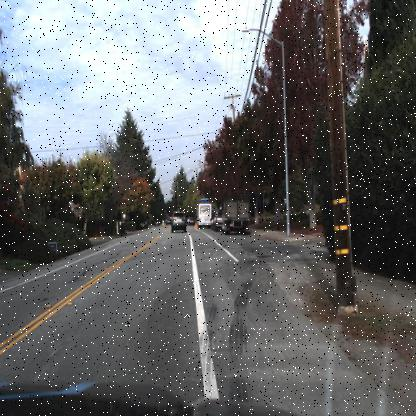car: (221, 193, 255, 238), (196, 196, 212, 232), (171, 210, 188, 237), (196, 200, 212, 228), (214, 207, 224, 233), (138, 214, 150, 233)
truck: (220, 199, 252, 235)
